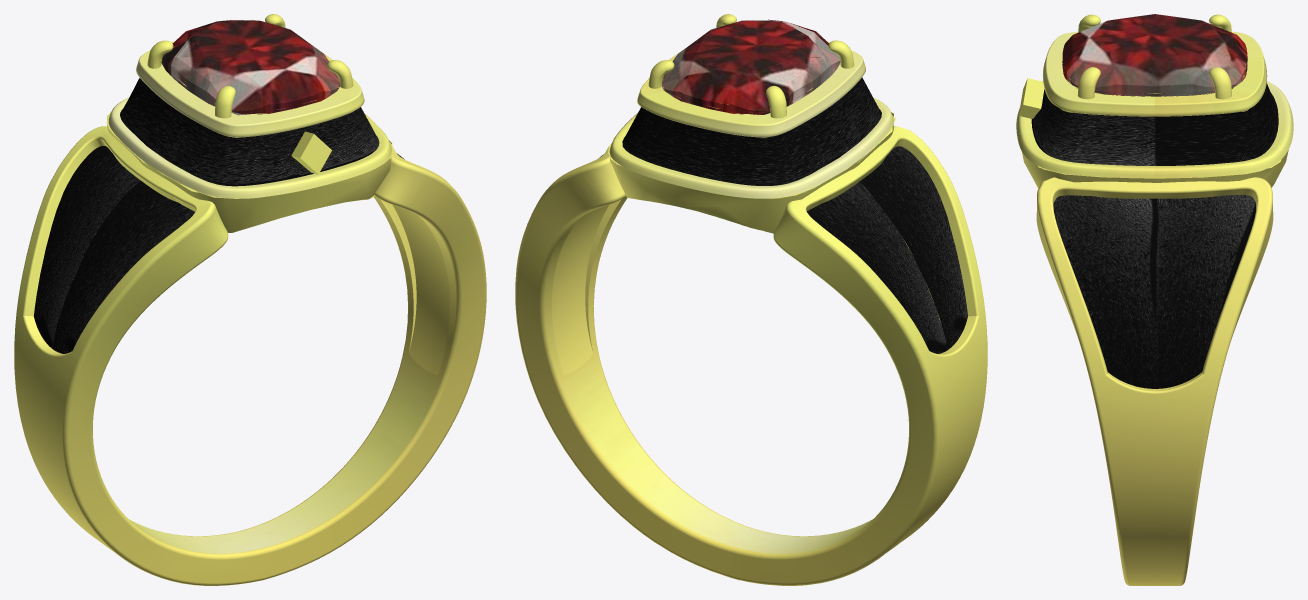
The model's file is ring39.glb.
3 views of the same model, side by side, from view 1: azimuth 30°, elevation 25°; view 2: azimuth 150°, elevation 25°; view 3: azimuth 270°, elevation 25° (orthographic).
Visible parts, largest first — view 1: body, black, core, 物件_109; view 2: body, black, core, 物件_109; view 3: black, body, core, 物件_109.
Part boxes in pixels (x1=…): body: x1=14, y1=14, x2=486, y2=585; black: x1=33, y1=78, x2=404, y2=353; core: x1=161, y1=20, x2=340, y2=115; 物件_109: x1=108, y1=41, x2=391, y2=198; body: x1=515, y1=14, x2=987, y2=585; black: x1=599, y1=77, x2=967, y2=353; core: x1=662, y1=19, x2=840, y2=114; 物件_109: x1=609, y1=41, x2=893, y2=198; black: x1=1031, y1=83, x2=1278, y2=388; body: x1=1018, y1=14, x2=1288, y2=585; core: x1=1062, y1=14, x2=1247, y2=96; 物件_109: x1=1016, y1=31, x2=1293, y2=178.
Bounding box in the file's own units: 21.21 × 25.15 × 11.99.
4 materials, 4 textured.
